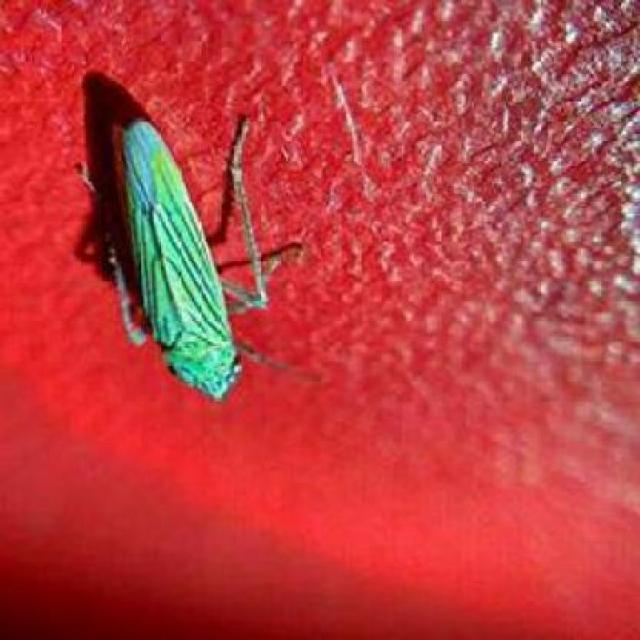green-leafhopper: (92, 117, 271, 400)
